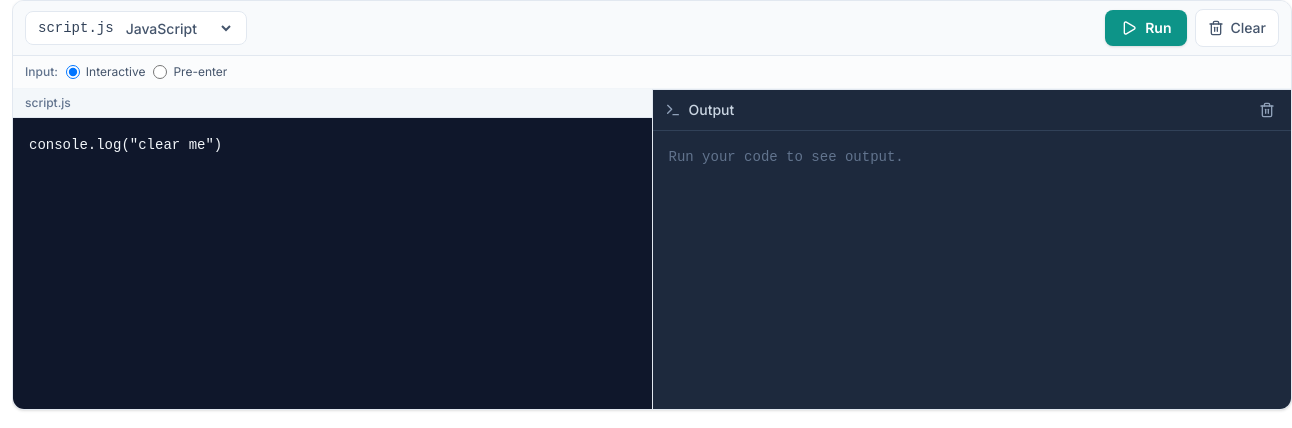
Test case: CodeBlock › output panel clear button › clears output when output panel trash button is clicked
The width and height of the screenshot is (1292, 428).
What coordinates should you click on to do the following:
click the button "Run"
I would click on:
 (1146, 28)
Its box is top-left (1105, 10), bottom-right (1188, 46).
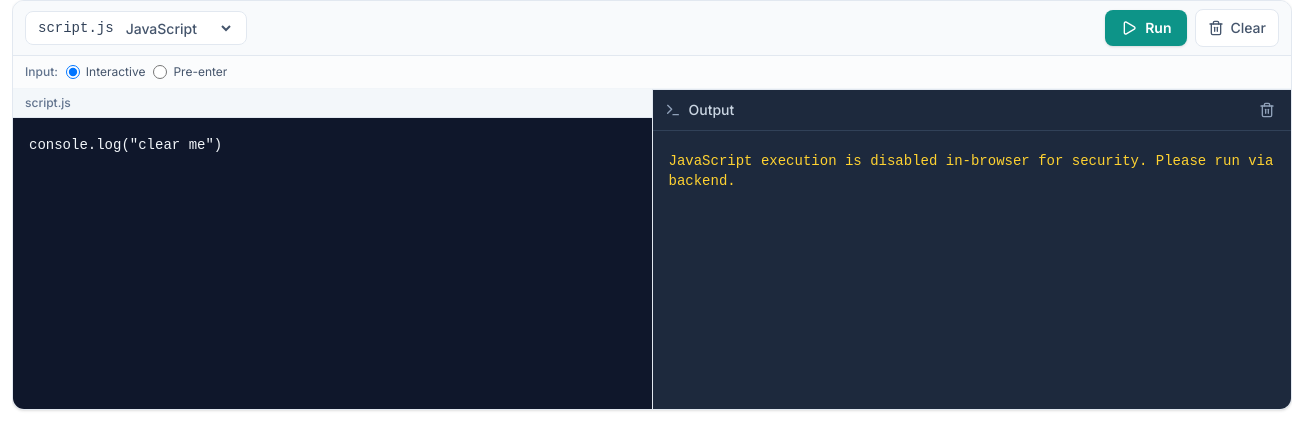
What coordinates should you click on to do the following:
click the button named "Clear output"
I would click on:
 (1267, 110)
Its box is top-left (1255, 98), bottom-right (1279, 122).
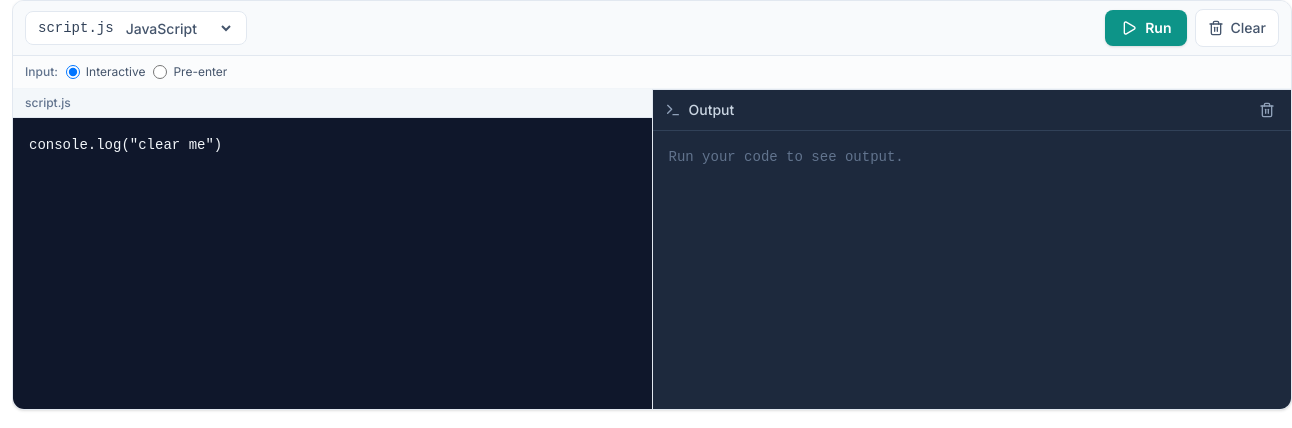
Now the text "Run your code to see output." is shown, box top-left (668, 149), bottom-right (904, 165)
